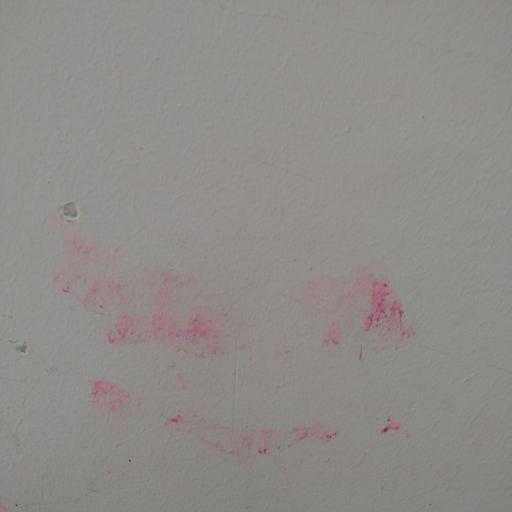stain: (41, 183, 441, 467)
